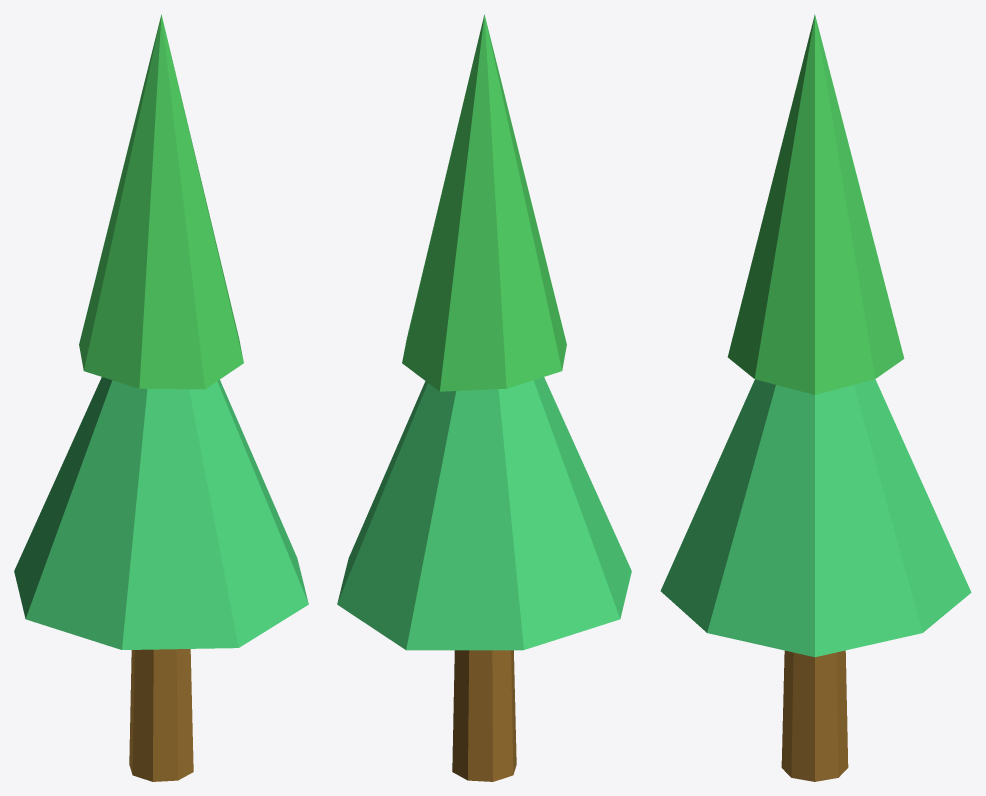
Rendered from spruce_little.fbx.
The picture shows the model from 3 angles, left to right: view 1: azimuth 30°, elevation 25°; view 2: azimuth 150°, elevation 25°; view 3: azimuth 270°, elevation 25°; orthographic projection.
Visible parts, largest first — view 1: Cone, Cone.001, Cylinder; view 2: Cone, Cone.001, Cylinder; view 3: Cone, Cone.001, Cylinder.
Part boxes in pixels (box(x1,y1,x2,y2)): Cone: box(14, 377, 308, 649); Cone.001: box(79, 14, 243, 389); Cylinder: box(129, 649, 193, 781); Cone: box(337, 377, 631, 650); Cone.001: box(402, 14, 566, 391); Cylinder: box(452, 650, 516, 781); Cone: box(660, 379, 971, 657); Cone.001: box(727, 14, 904, 394); Cylinder: box(781, 650, 848, 781).
Size of the model in its own units: 330 by 874 by 327.
